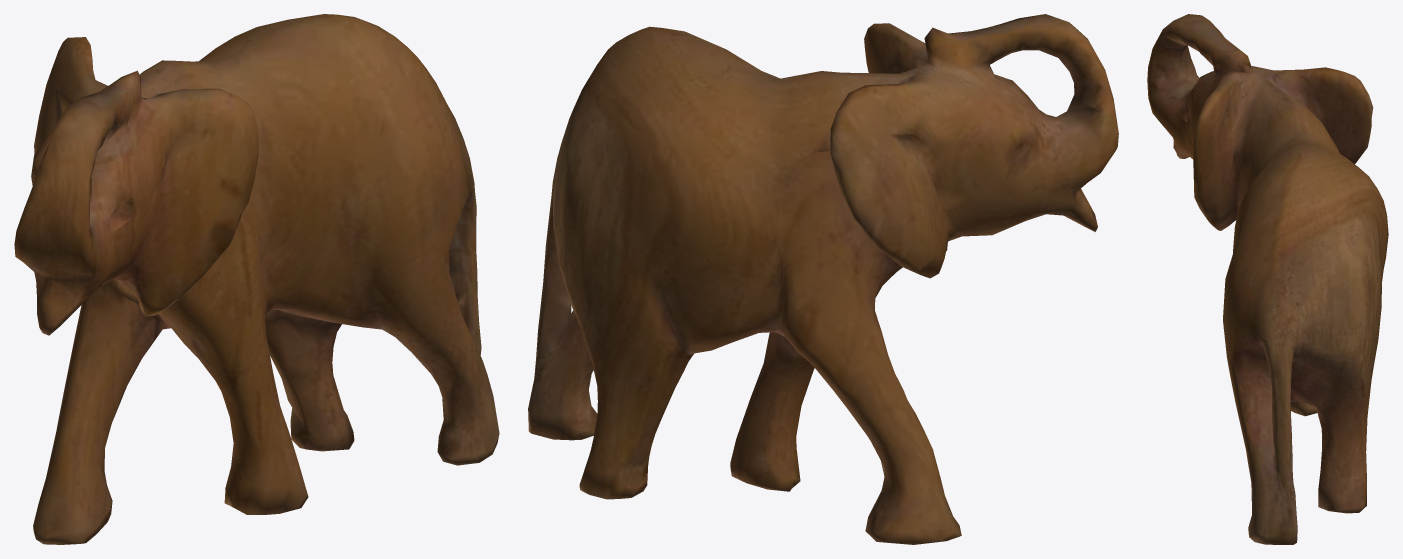
File: carved_wooden_elephant.glb
3 views of the same model, side by side, from view 1: azimuth 30°, elevation 25°; view 2: azimuth 150°, elevation 25°; view 3: azimuth 270°, elevation 25° (orthographic). The views are drawn at different scales.
Parts seen in each view (by area): view 1: carved_wooden_elephant; view 2: carved_wooden_elephant; view 3: carved_wooden_elephant.
Boxes of the visible parts, x1,y1,x2,y2 form: carved_wooden_elephant: [14, 14, 499, 544]; carved_wooden_elephant: [528, 14, 1118, 544]; carved_wooden_elephant: [1147, 14, 1388, 544].
Bounding box in the file's own units: 0.1092 × 0.0962 × 0.0576.
Materials: 1 (1 with a texture image).
